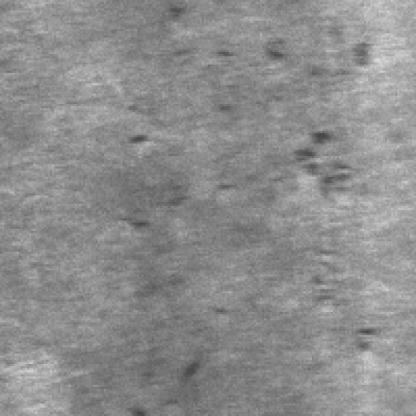rolled-in_scale: (276, 39, 376, 360), (112, 127, 216, 241)
